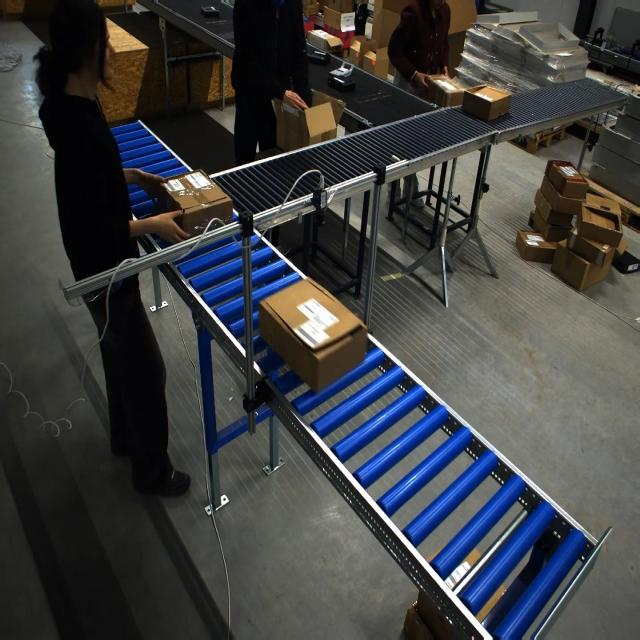box: (258, 278, 355, 393), (156, 171, 233, 240), (273, 90, 333, 151), (347, 2, 392, 81), (461, 83, 514, 122)
product: (328, 75, 356, 92), (328, 63, 353, 79), (306, 50, 329, 66), (200, 6, 220, 17)
